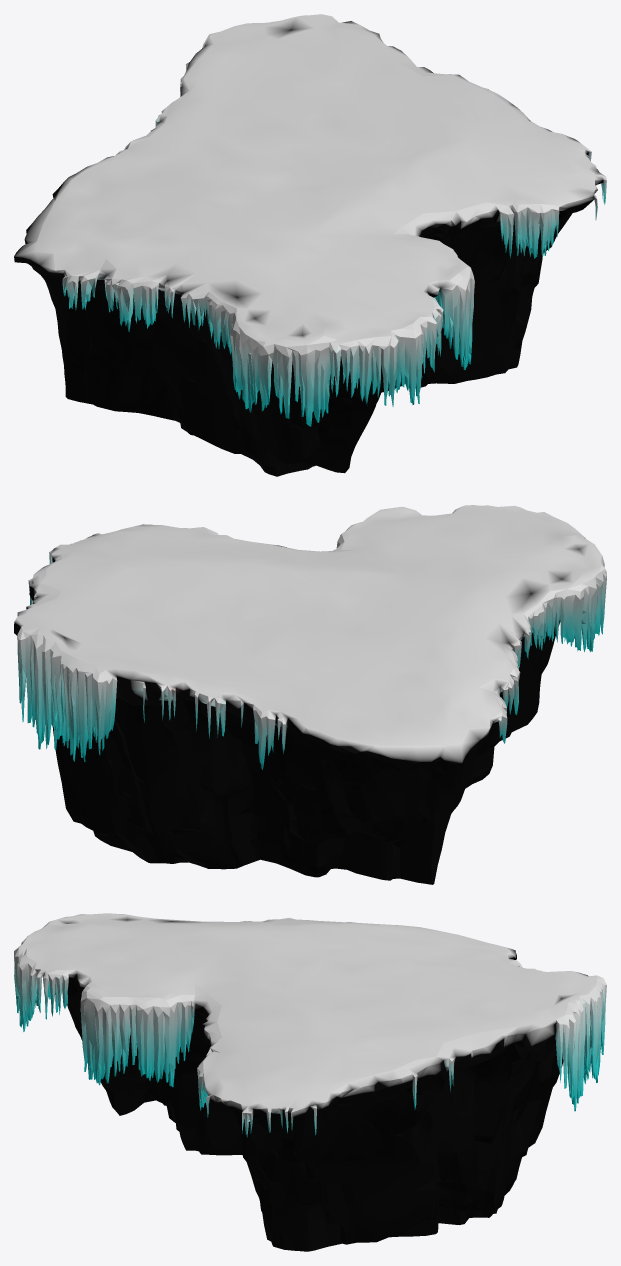
Rendered from CliffIce_4_Warp.fbx.
3 views of the same model, one above another, from view 1: azimuth 30°, elevation 25°; view 2: azimuth 150°, elevation 25°; view 3: azimuth 270°, elevation 25° (orthographic). The views are drawn at different scales.
Parts seen in each view (by area): view 1: CliffIce_4_Warp_LOD0; view 2: CliffIce_4_Warp_LOD0; view 3: CliffIce_4_Warp_LOD0.
Boxes of the visible parts, box(x1,y1,x2,y2) form: CliffIce_4_Warp_LOD0: box(14, 14, 606, 476); CliffIce_4_Warp_LOD0: box(14, 505, 606, 884); CliffIce_4_Warp_LOD0: box(14, 913, 606, 1251).
Size of what is drawn, in the model's own units: 1885 by 894 by 2138.
